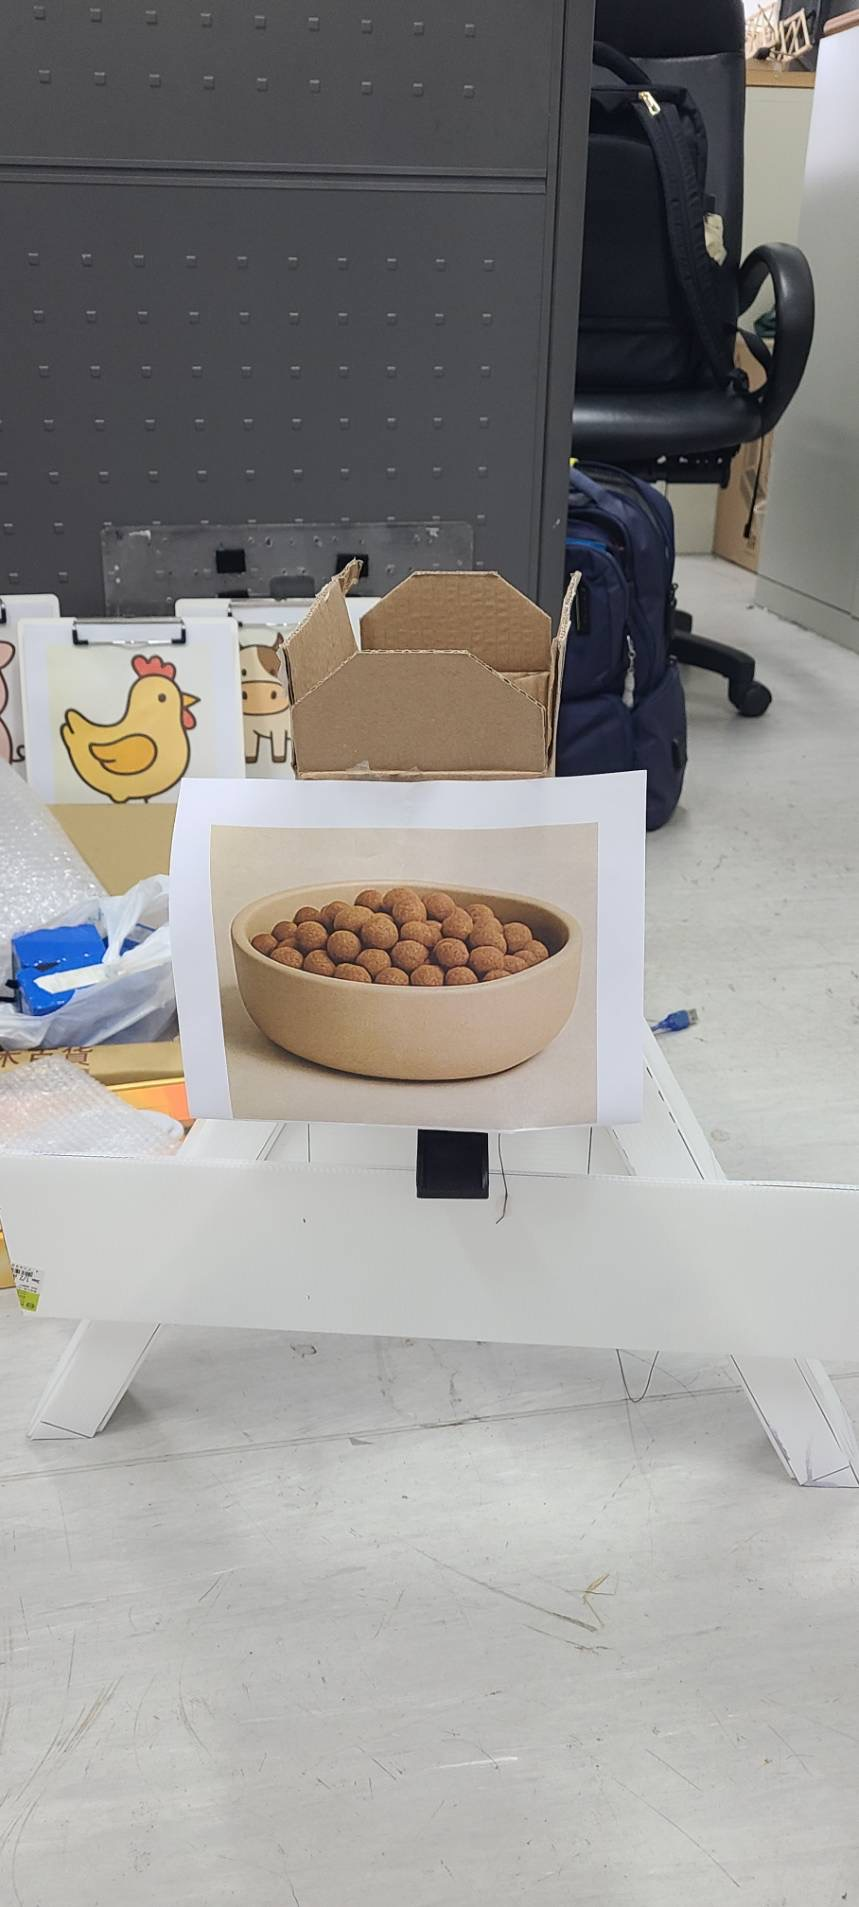chick: (49, 648, 212, 811)
